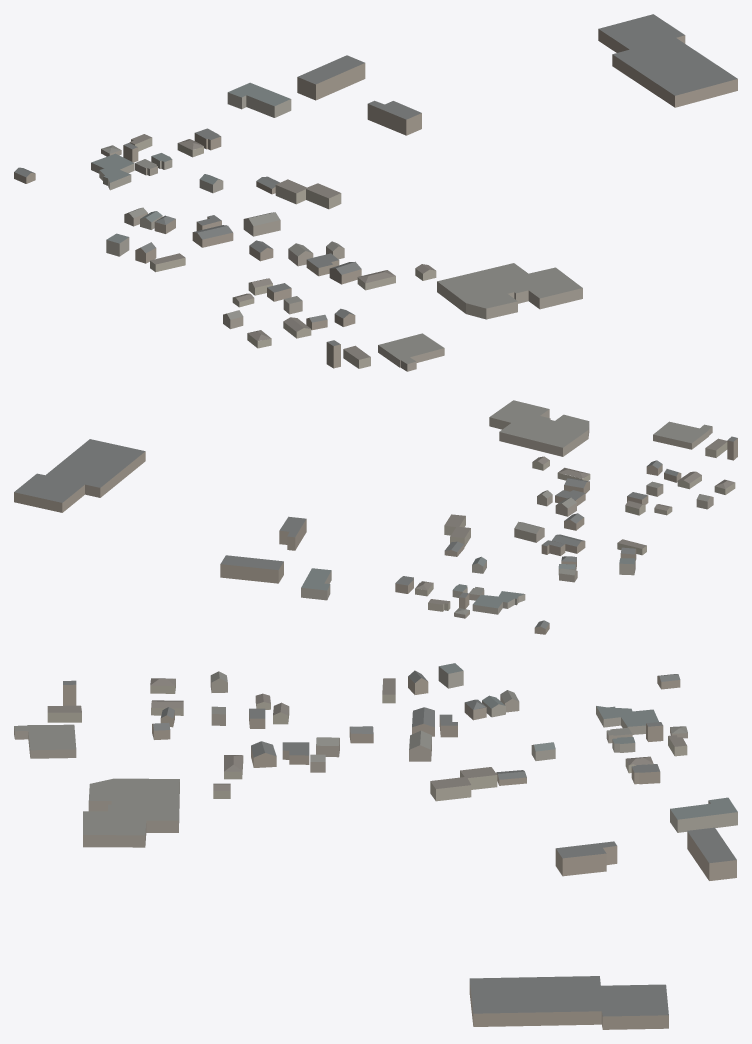
Rendered from df76cf00a433-chunk-1195_11842.glb.
3 renders of one model, top to bottom at view 1: azimuth 30°, elevation 25°; view 2: azimuth 150°, elevation 25°; view 3: azimuth 270°, elevation 25°, orthographic. The views are drawn at different scales.
Parts seen in each view (by area): view 1: building_72818, building_124892, building_84414, building_90560, building_44431, building_35640, building_92226, building_52169, building_17465, building_38876; view 2: building_72818, building_124892, building_84414, building_90560, building_44431, building_52169, building_35640, building_92226, building_17465; view 3: building_72818, building_124892, building_84414, building_90560, building_35640, building_44431, building_92226, building_52169, building_17465, building_90611, building_50939, building_115531.
Part boxes in pixels (box(x1,y1,x2,y2)): building_72818: box(598, 14, 737, 107); building_124892: box(437, 263, 582, 319); building_84414: box(297, 55, 365, 100); building_90560: box(378, 333, 444, 371); building_44431: box(227, 82, 291, 117); building_35640: box(367, 100, 421, 135); building_92226: box(275, 179, 341, 209); building_52169: box(91, 153, 134, 190); building_17465: box(243, 212, 280, 236); building_38876: box(192, 225, 233, 247); building_72818: box(14, 439, 145, 512); building_124892: box(489, 400, 589, 456); building_84414: box(220, 555, 283, 583); building_90560: box(653, 421, 712, 449); building_44431: box(301, 568, 331, 600); building_52169: box(472, 591, 525, 614); building_35640: box(279, 516, 306, 550); building_92226: box(444, 514, 470, 547); building_17465: box(514, 521, 544, 542); building_72818: box(469, 976, 668, 1029); building_124892: box(83, 778, 179, 847); building_84414: box(687, 827, 736, 880); building_90560: box(14, 724, 76, 758); building_35640: box(555, 841, 617, 876); building_44431: box(670, 797, 737, 832); building_92226: box(430, 767, 497, 801); building_52169: box(596, 706, 658, 734); building_17465: box(409, 730, 431, 761); building_90611: box(47, 705, 81, 722); building_50939: box(282, 742, 309, 764); building_115531: box(251, 741, 276, 767).
Size of the model in its own units: 391 by 12.98 by 340.
